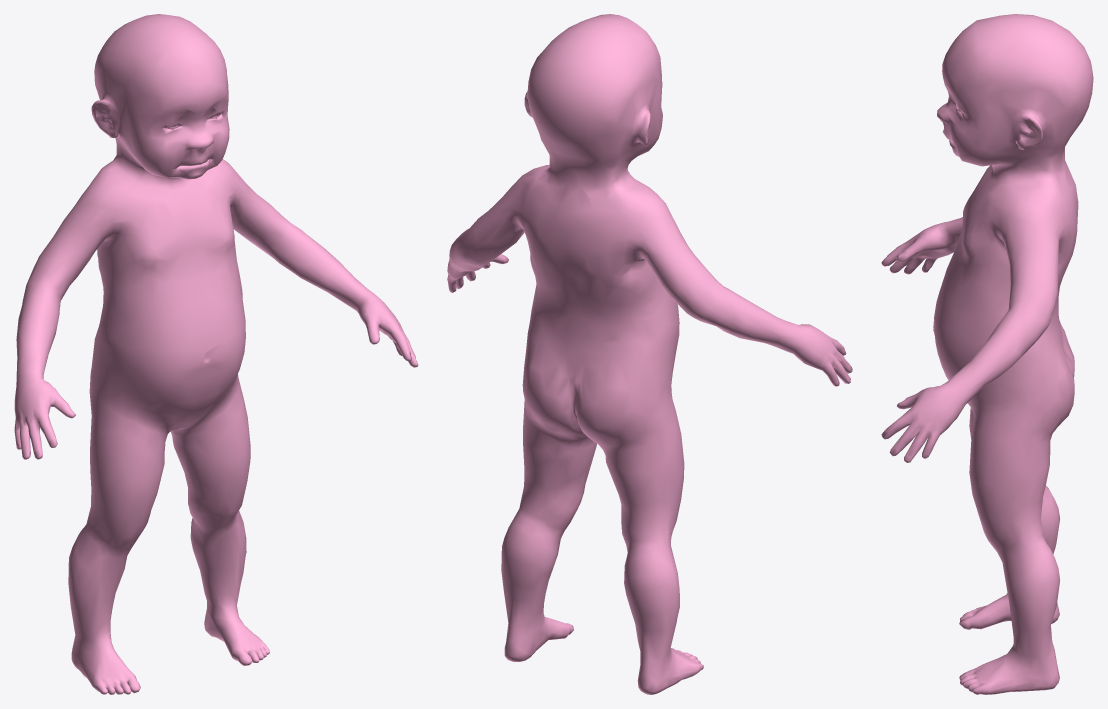
Rendered from glitched_baby.dae.
3 renders of one model, left to right at view 1: azimuth 30°, elevation 25°; view 2: azimuth 150°, elevation 25°; view 3: azimuth 270°, elevation 25°, orthographic.
Visible parts, largest first — view 1: Baby_Body; view 2: Baby_Body; view 3: Baby_Body.
Part boxes in pixels (box(x1,y1,x2,y2)): Baby_Body: box(14, 14, 418, 694); Baby_Body: box(447, 14, 852, 694); Baby_Body: box(881, 14, 1093, 694).
Bounding box in the file's own units: 3.87 × 1.82 × 6.02.
